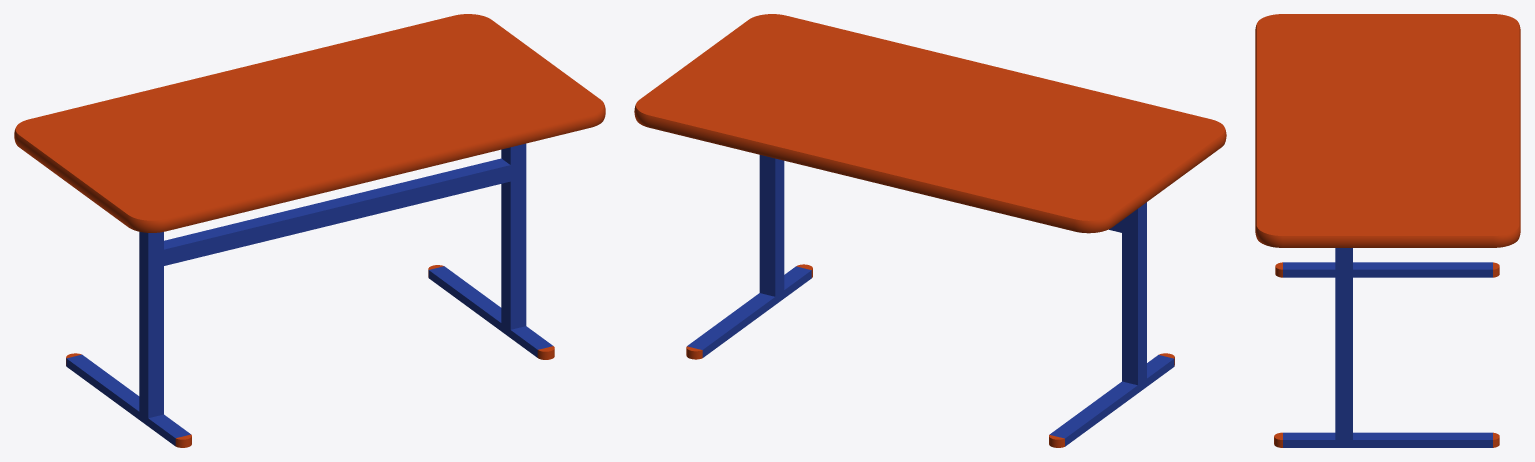
The model's file is simpleDesk.obj.
The picture shows the model from 3 angles, left to right: view 1: azimuth 30°, elevation 25°; view 2: azimuth 150°, elevation 25°; view 3: azimuth 270°, elevation 25°; orthographic projection. The views are drawn at different scales.
Visible parts, largest first — view 1: SketchUp_005, SketchUp; view 2: SketchUp_005, SketchUp; view 3: SketchUp_005, SketchUp.
Boxes of the visible parts, x1=… form: SketchUp_005: x1=15, y1=14, x2=604, y2=446; SketchUp: x1=14, y1=105, x2=605, y2=232; SketchUp_005: x1=636, y1=14, x2=1224, y2=446; SketchUp: x1=634, y1=104, x2=1226, y2=233; SketchUp_005: x1=1256, y1=14, x2=1519, y2=447; SketchUp: x1=1255, y1=25, x2=1520, y2=247.
Size of the model in its own units: 1.53 by 0.7493 by 0.7695.
